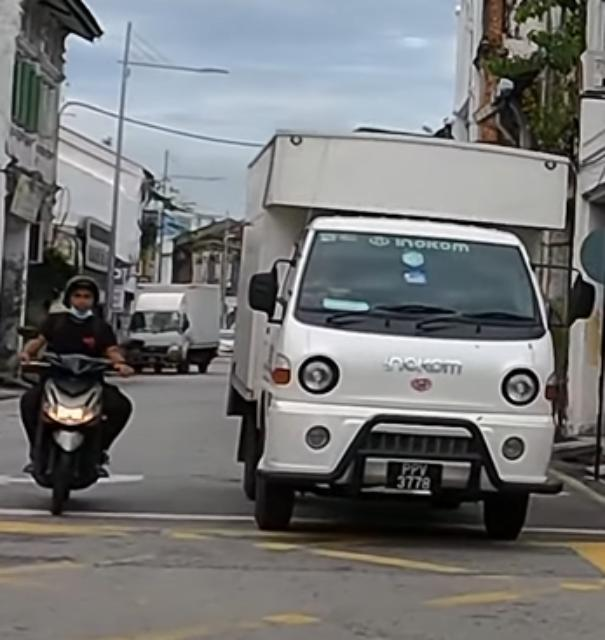License_Plate: (385, 458, 442, 496)
car: (225, 127, 604, 542)
